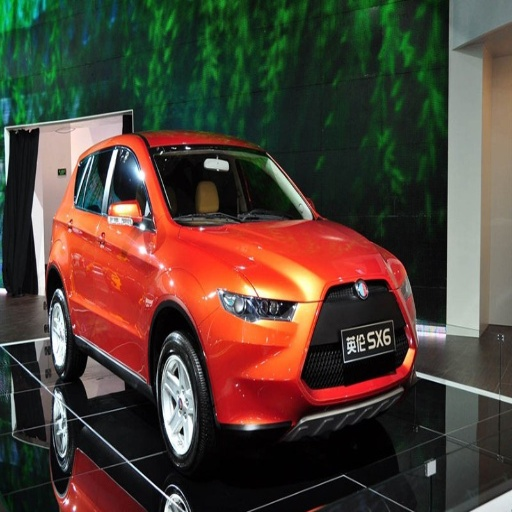front_bumper: (200, 279, 414, 430)
front_right_door: (93, 143, 150, 355)
front_right_light: (217, 286, 287, 322)
